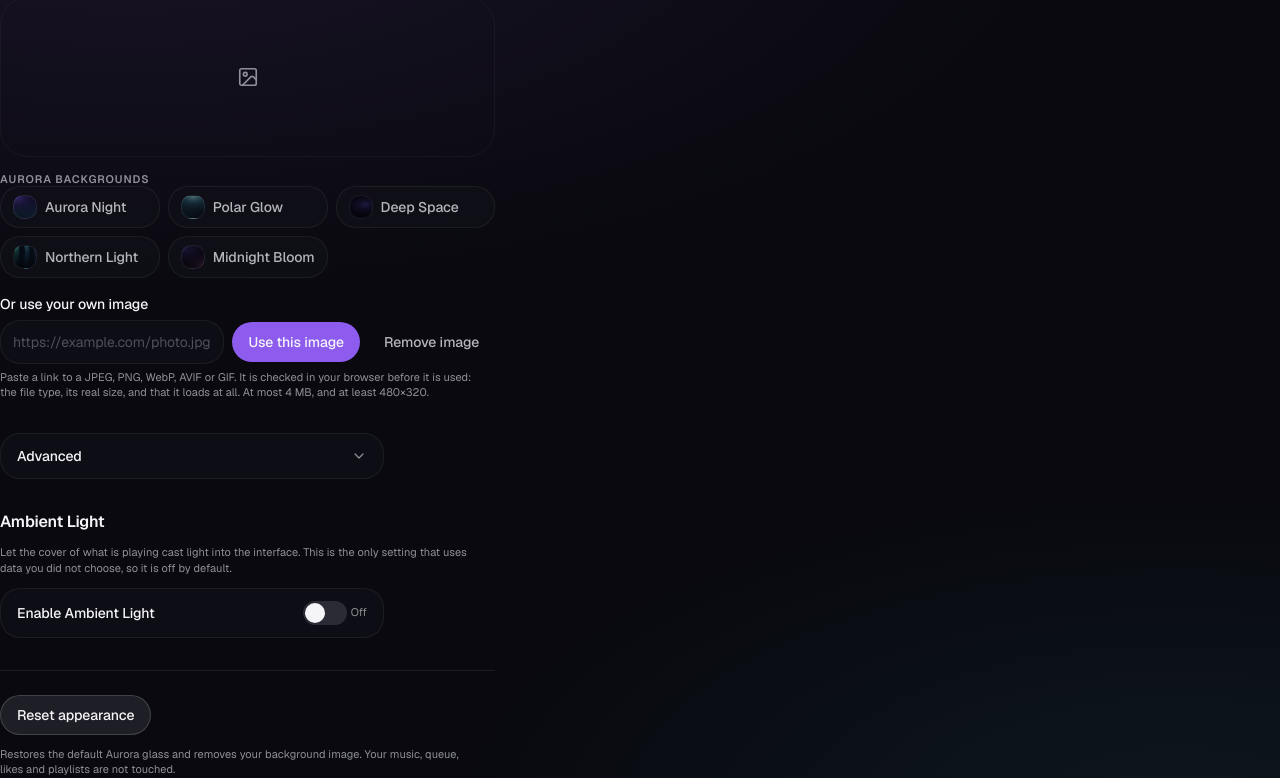
Appearance panel: image-only Advanced controls admit they need a background › disables them and says why while no background is chosen
(page scrolled)
Click the button with test id "appearance-advanced-toggle".
click(49, 456)  # box [0,433,384,479]
(page scrolled)
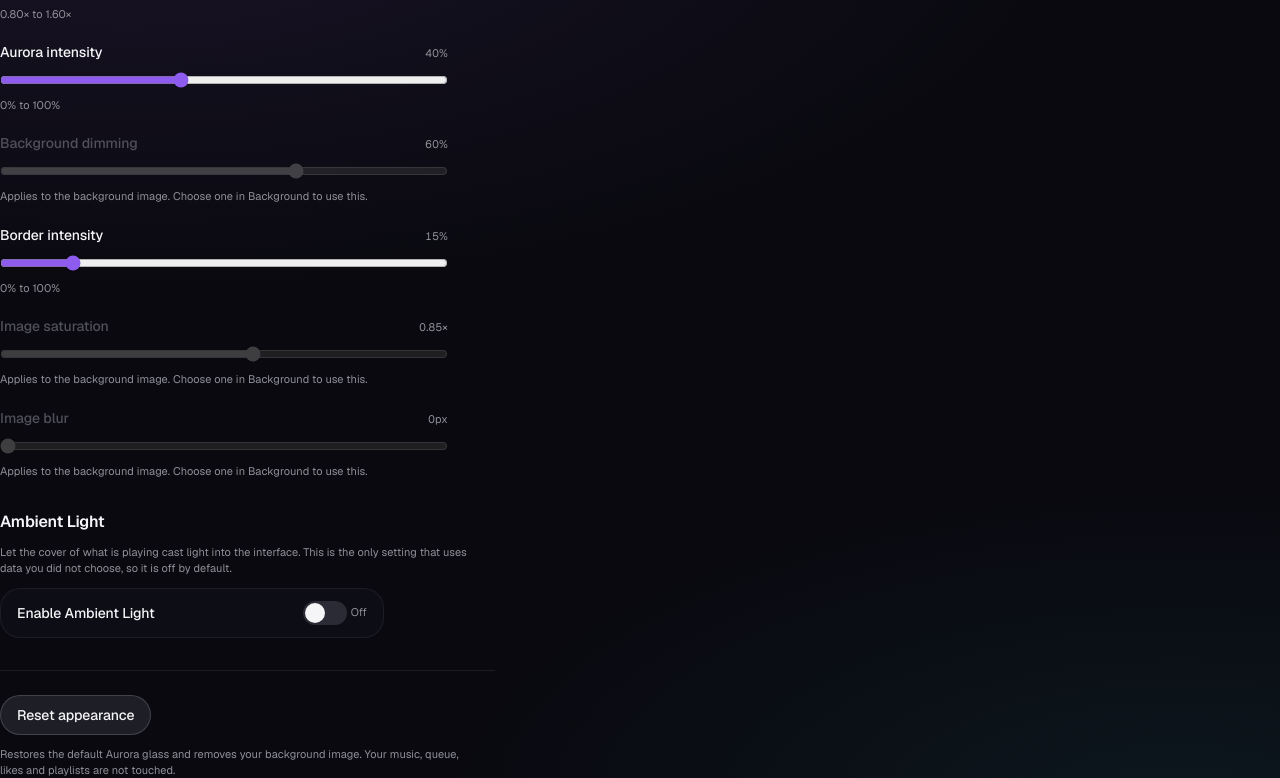
Expected: the slider with test id "control-backgroundDim" is disabled, [0,159,448,183]
Expected: the text "Applies to the background image. Choose one in Background to use this." is shown 3 times, [0,189,368,203]; [0,372,368,386]; [0,464,368,478]
